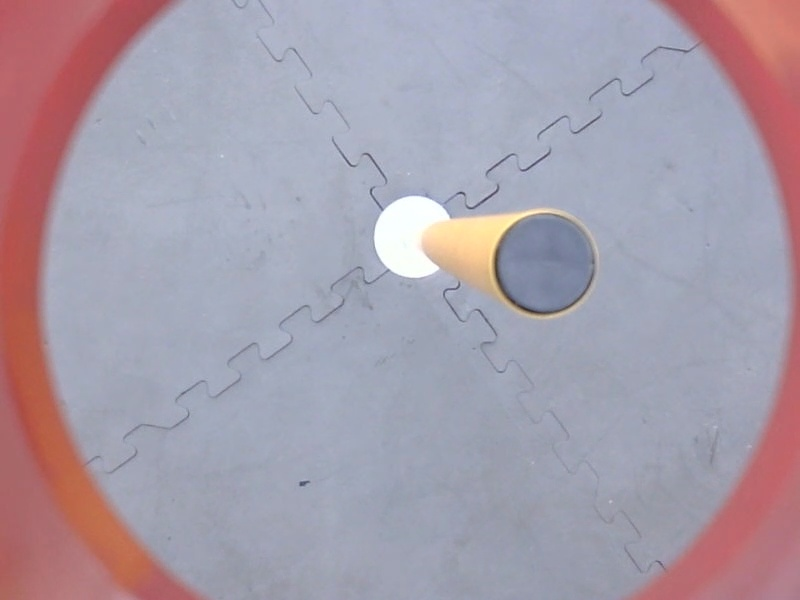tip: (489, 205, 604, 324)
